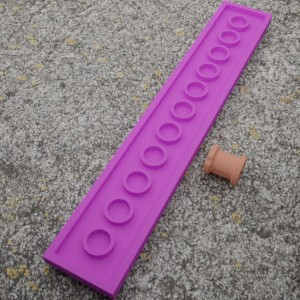lego: (42, 0, 272, 300), (202, 144, 247, 186)
